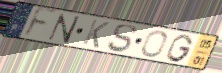F: (20, 6, 59, 40)
G: (165, 34, 195, 63)
K: (80, 19, 111, 50)
N: (46, 12, 82, 44)
O: (140, 30, 169, 58)
S: (106, 23, 139, 53)
